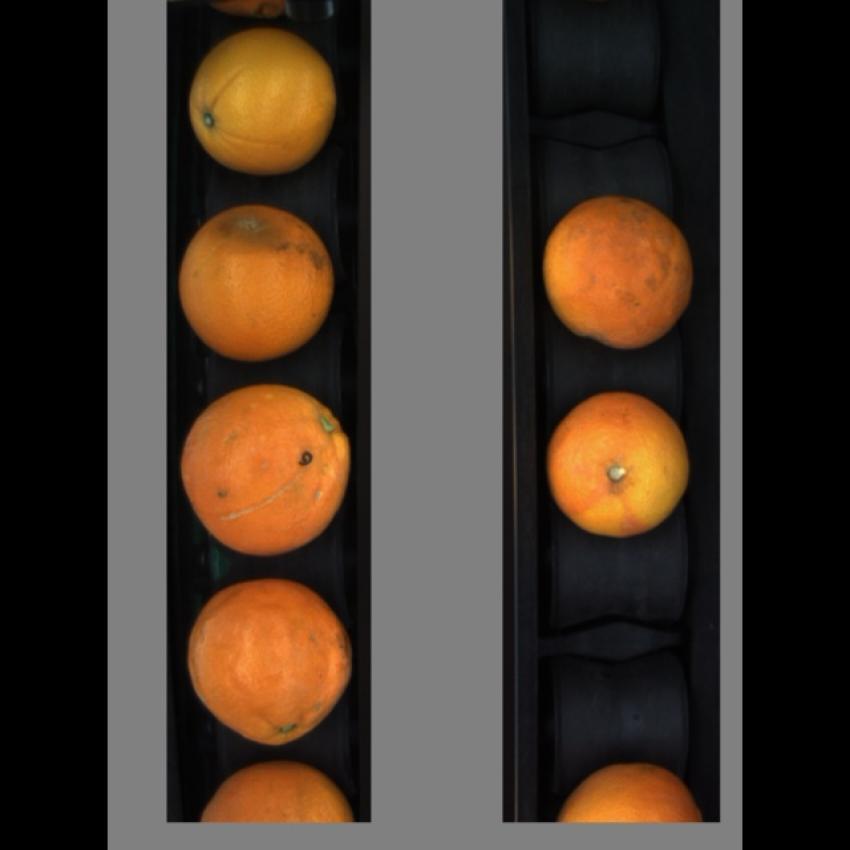Buen estado: (539, 383, 699, 541), (187, 31, 342, 169), (197, 755, 361, 822), (557, 755, 708, 822)
Mal estado: (181, 574, 354, 754), (176, 385, 354, 557), (541, 193, 695, 353), (176, 210, 338, 362)
